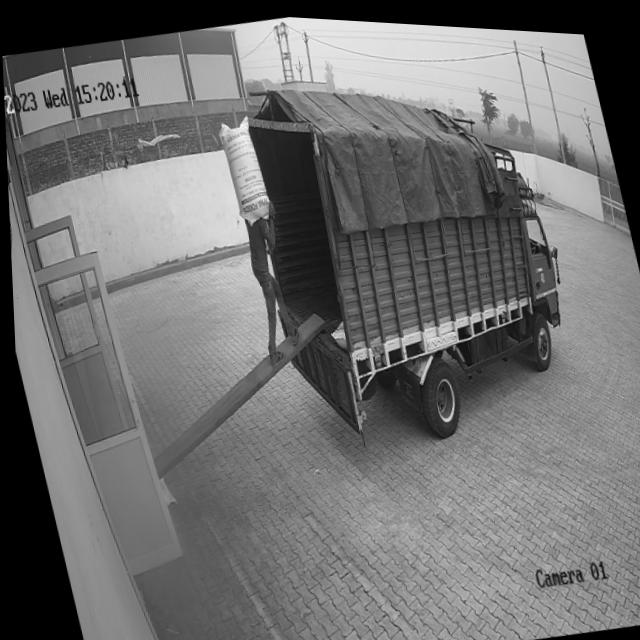sack: (215, 111, 272, 225)
